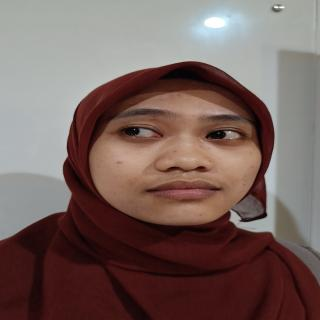Takut: (84, 73, 273, 233)
